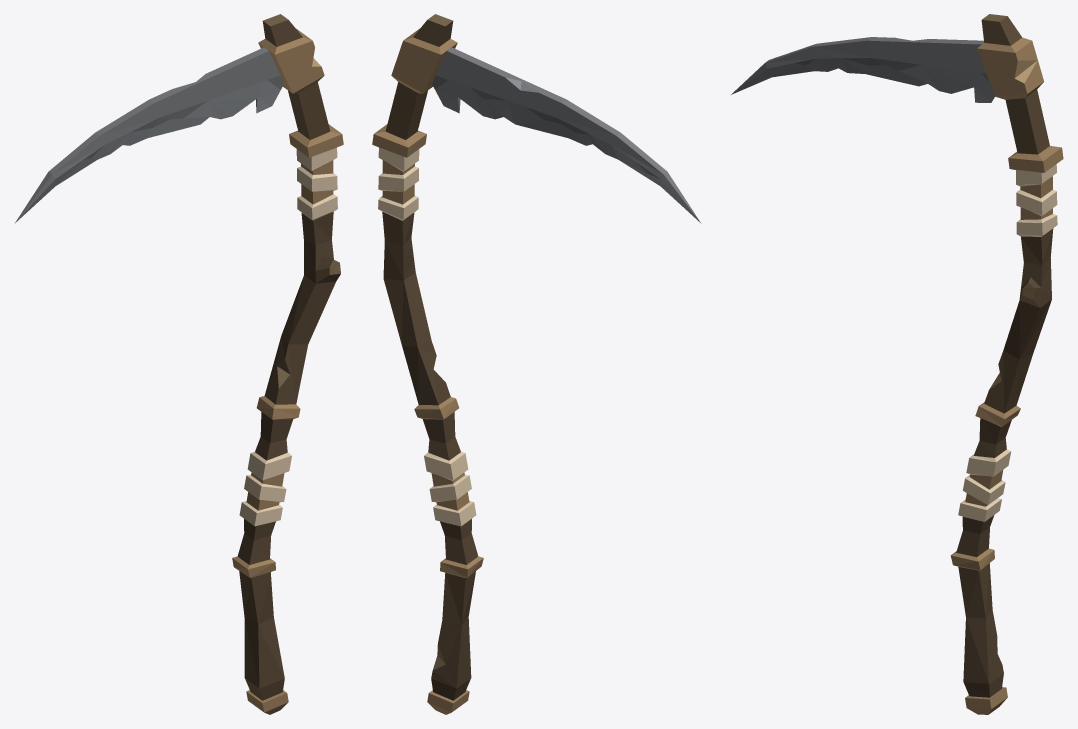
Rendered from SM_Wep_Scythe_01.fbx.
The picture shows the model from 3 angles, left to right: view 1: azimuth 30°, elevation 25°; view 2: azimuth 150°, elevation 25°; view 3: azimuth 330°, elevation 25°; orthographic projection.
Visible parts, largest first — view 1: SM_Wep_Scythe_01; view 2: SM_Wep_Scythe_01; view 3: SM_Wep_Scythe_01.
Boxes of the visible parts, x1,y1,x2,y2 form: SM_Wep_Scythe_01: (14, 14, 343, 714); SM_Wep_Scythe_01: (372, 14, 701, 714); SM_Wep_Scythe_01: (731, 14, 1063, 714).
Size of the model in its own units: 0.00922 by 0.0189 by 0.00114.
Materials: 1 (1 with a texture image).
